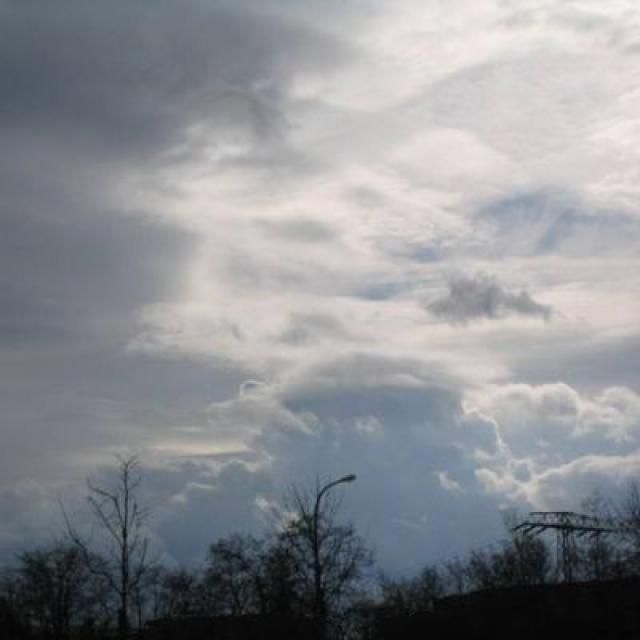Cu: (1, 121, 640, 443)
